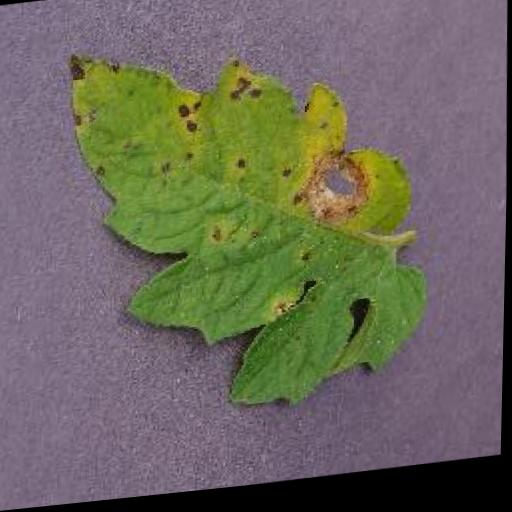Septoria: (62, 17, 437, 426)
